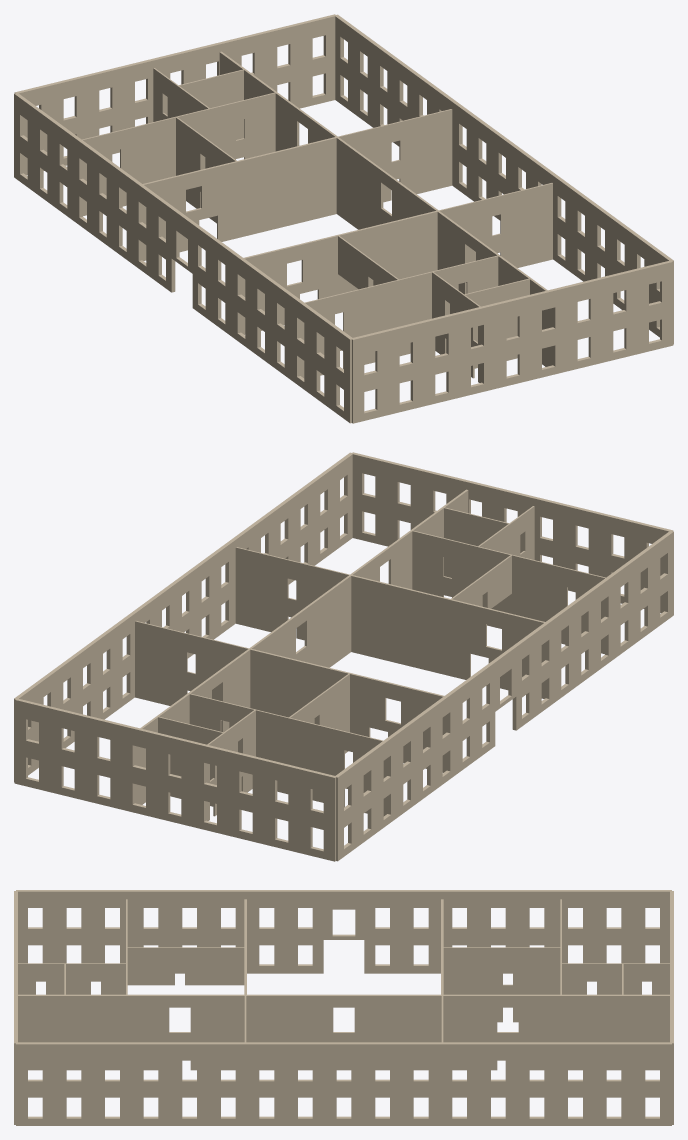
The model's file is SM_Malikane_Duvarlar.fbx.
The picture shows the model from 3 angles, top to bottom: view 1: azimuth 30°, elevation 25°; view 2: azimuth 150°, elevation 25°; view 3: azimuth 270°, elevation 25°; orthographic projection. The views are drawn at different scales.
Visible parts, largest first — view 1: Malikane_Duvarlar; view 2: Malikane_Duvarlar; view 3: Malikane_Duvarlar.
Boxes of the visible parts, x1,y1,x2,y2 form: Malikane_Duvarlar: [14, 14, 673, 423]; Malikane_Duvarlar: [14, 452, 673, 861]; Malikane_Duvarlar: [14, 890, 673, 1125].
Bounding box in the file's own units: 4450 × 1100 × 8050.
